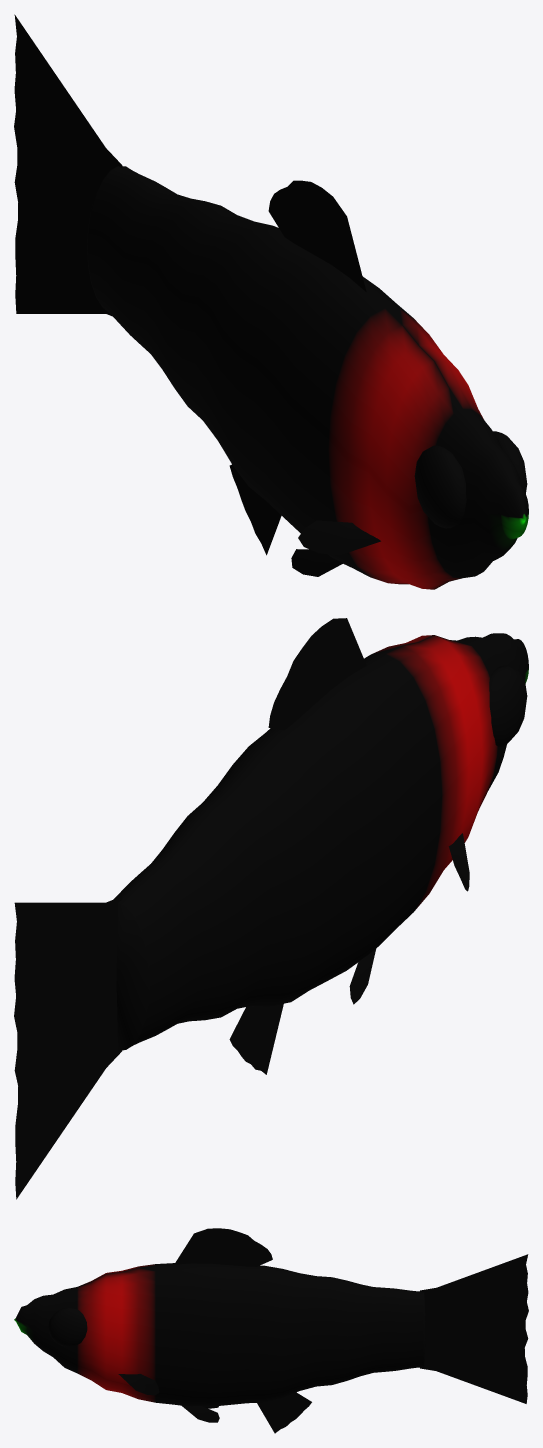
The model's file is swordtail-female.glb.
3 renders of one model, top to bottom at view 1: azimuth 30°, elevation 25°; view 2: azimuth 150°, elevation 25°; view 3: azimuth 270°, elevation 25°, orthographic. The views are drawn at different scales.
Visible parts, largest first — view 1: swordf_body, swordf_caudal, swordf_dorsal, swordf_eyeL, swordf_pectoralL, swordf_anal, swordf_pelvicL; view 2: swordf_body, swordf_caudal, swordf_dorsal, swordf_eyeL, swordf_anal, swordf_pelvicL, swordf_pectoralL; view 3: swordf_body, swordf_caudal, swordf_dorsal, swordf_eyeR, swordf_anal, swordf_pectoralR, swordf_pelvicR.
Boxes of the visible parts, box(x1,y1,x2,y2) form: swordf_body: box(87, 166, 528, 589); swordf_caudal: box(14, 14, 122, 315); swordf_dorsal: box(268, 180, 366, 291); swordf_eyeL: box(414, 445, 466, 528); swordf_pectoralL: box(298, 520, 380, 555); swordf_anal: box(229, 464, 281, 555); swordf_pelvicL: box(291, 549, 342, 576); swordf_body: box(113, 633, 528, 1050); swordf_caudal: box(14, 896, 122, 1199); swordf_dorsal: box(268, 618, 366, 730); swordf_eyeL: box(489, 665, 527, 747); swordf_anal: box(229, 1003, 283, 1074); swordf_pelvicL: box(349, 948, 376, 1004); swordf_pectoralL: box(448, 833, 469, 891); swordf_body: box(14, 1263, 425, 1406); swordf_caudal: box(420, 1254, 528, 1403); swordf_dorsal: box(174, 1228, 272, 1266); swordf_eyeR: box(48, 1308, 87, 1346); swordf_anal: box(257, 1392, 311, 1433); swordf_pectoralR: box(118, 1374, 159, 1395); swordf_pelvicR: box(181, 1405, 219, 1422).
Size of the model in its own units: 0.2368 by 0.5525 by 1.26.
